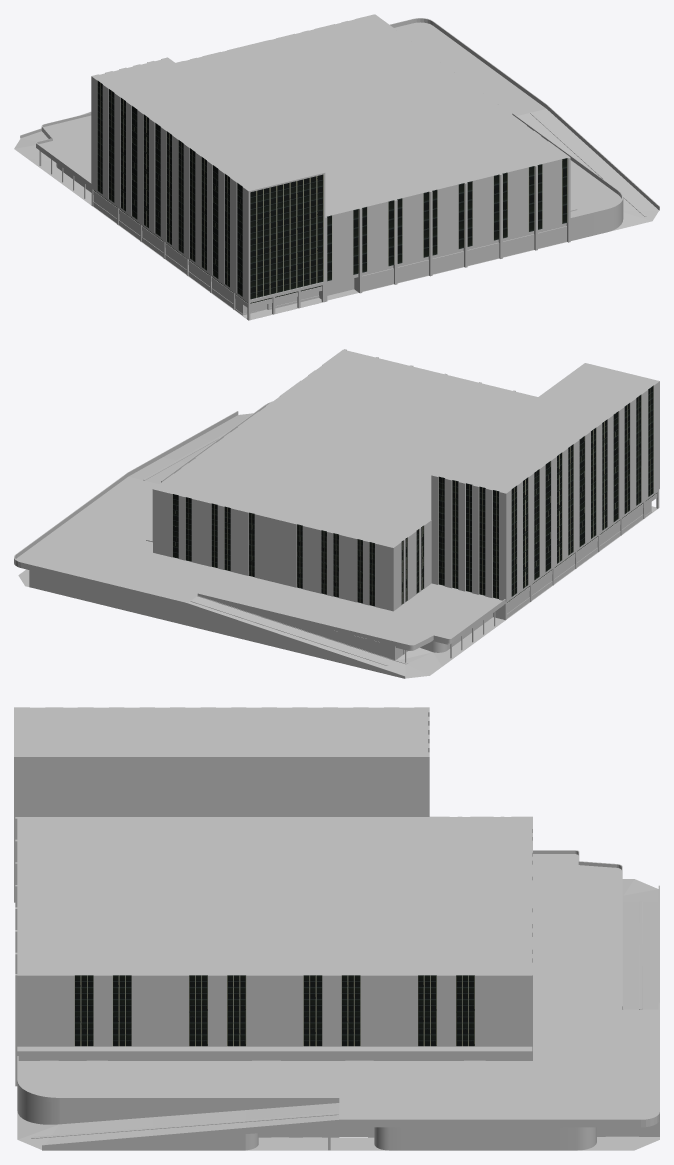
File: Fabrica-Detroit.fbx
3 renders of one model, top to bottom at view 1: azimuth 30°, elevation 25°; view 2: azimuth 150°, elevation 25°; view 3: azimuth 270°, elevation 25°, orthographic. The views are drawn at different scales.
Visible parts, largest first — view 1: Fabrica-Detroid; view 2: Fabrica-Detroid; view 3: Fabrica-Detroid.
Boxes of the visible parts, x1=… form: Fabrica-Detroid: x1=14, y1=14, x2=659, y2=320; Fabrica-Detroid: x1=14, y1=349, x2=659, y2=678; Fabrica-Detroid: x1=14, y1=707, x2=659, y2=1150.
Size of what is drawn, in the model's own units: 172 by 50.6 by 173.
